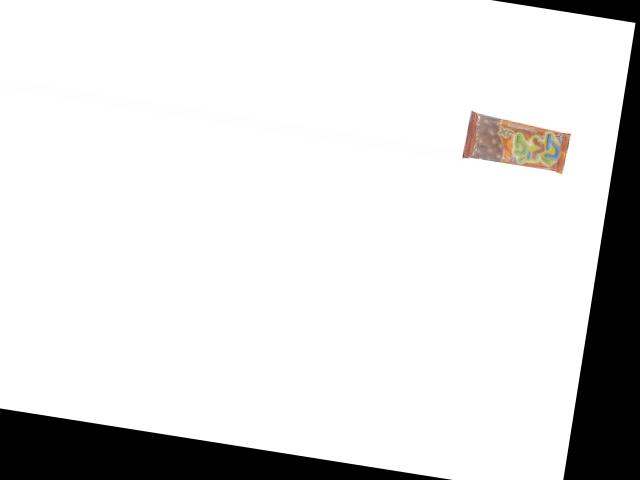chocolate: (462, 112, 572, 174)
